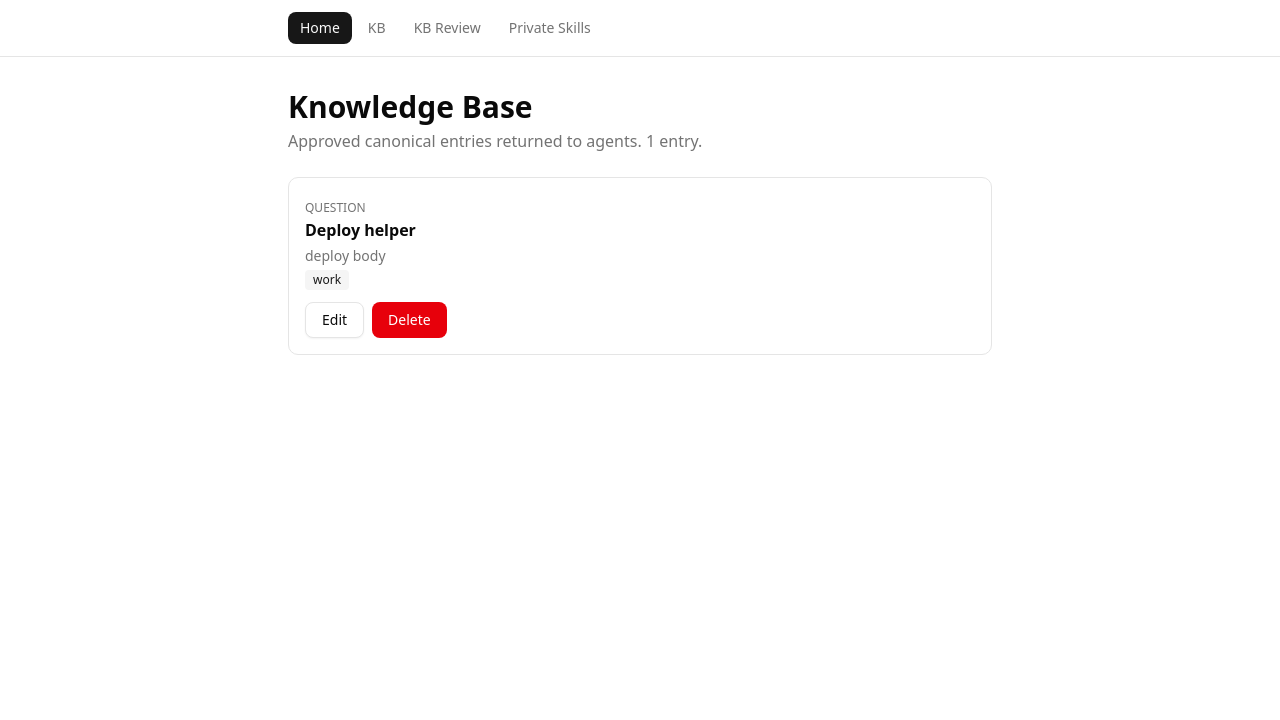
Scenario: KB browse screen › opens an editor pre-filled with an approved entry's title, body, and scope
The width and height of the screenshot is (1280, 720).
Click the button "Edit" at {"x": 335, "y": 320}, box [305,302,364,338]
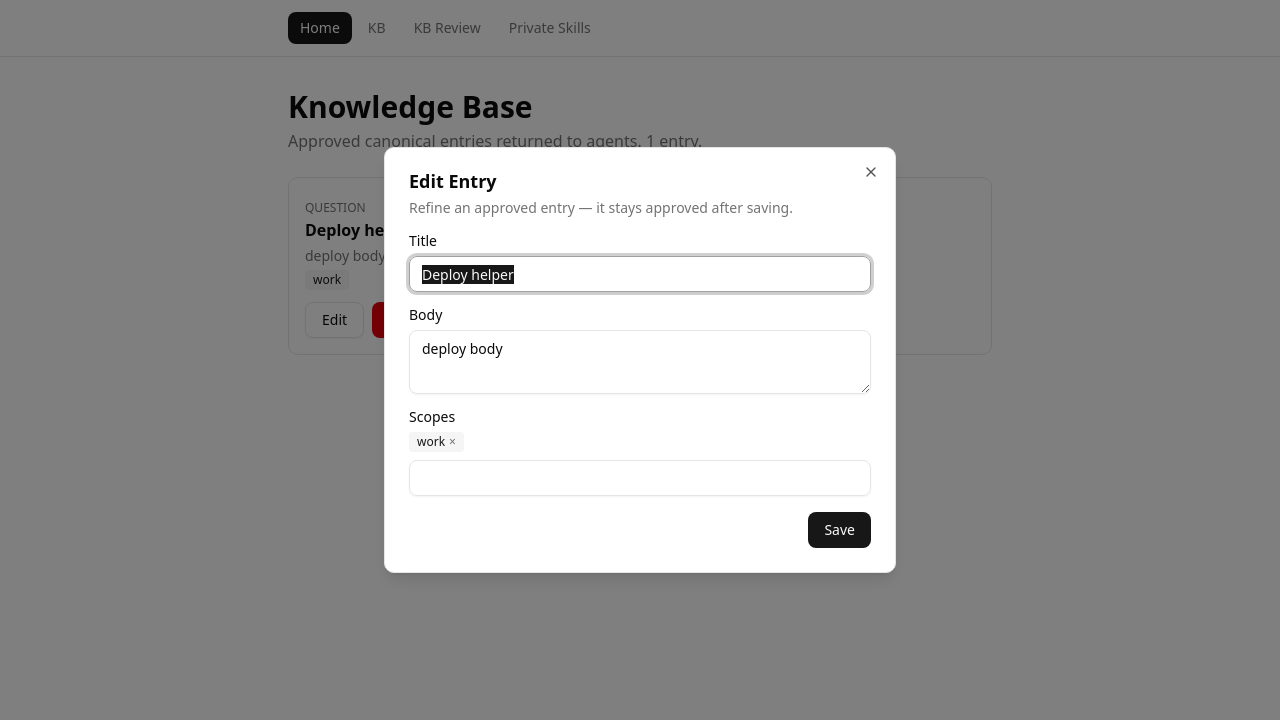
Check: the field labelled "Title" holds "Deploy helper", box [409,256,871,292]
Check: the text box labelled "Body" holds "deploy body", box [409,330,871,394]
Check: the text "work" is shown, box [417,433,445,450]
